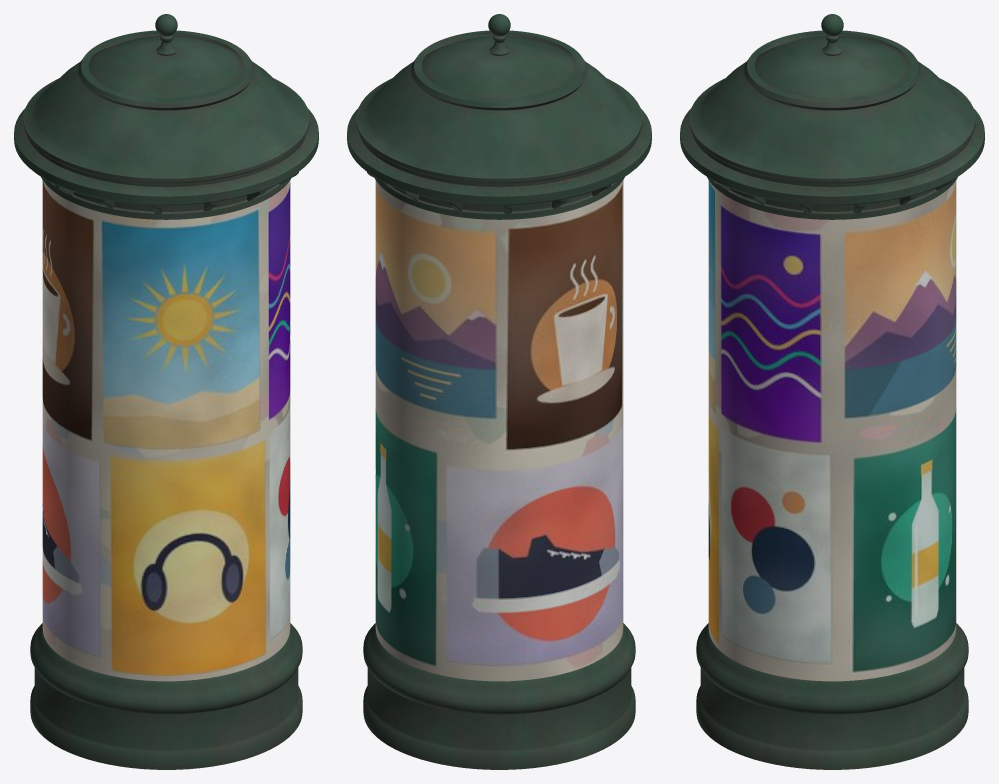
File: advertising-column.glb
3 renders of one model, left to right at view 1: azimuth 30°, elevation 25°; view 2: azimuth 150°, elevation 25°; view 3: azimuth 270°, elevation 25°, orthographic.
Visible parts, largest first — view 1: advertising-column_posters, advertising-column_body; view 2: advertising-column_posters, advertising-column_body; view 3: advertising-column_posters, advertising-column_body.
Boxes of the visible parts, x1=… form: advertising-column_posters: x1=42, y1=180, x2=290, y2=681; advertising-column_body: x1=14, y1=14, x2=318, y2=769; advertising-column_posters: x1=375, y1=180, x2=623, y2=681; advertising-column_body: x1=347, y1=14, x2=651, y2=769; advertising-column_posters: x1=708, y1=180, x2=956, y2=681; advertising-column_body: x1=680, y1=14, x2=984, y2=769.
Size of the model in its own units: 1.49 by 3.76 by 1.49.
2 materials, 2 textured.
